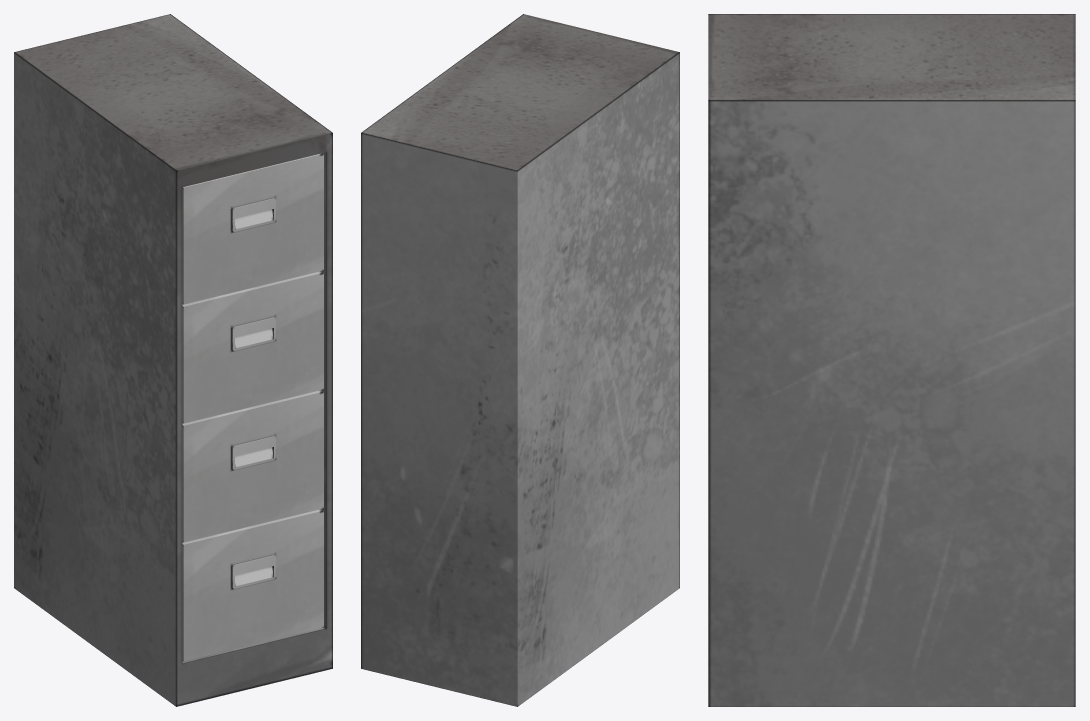
The model's file is FileCabinet_Asset.fbx.
3 views of the same model, side by side, from view 1: azimuth 30°, elevation 25°; view 2: azimuth 150°, elevation 25°; view 3: azimuth 270°, elevation 25° (orthographic). The views are drawn at different scales.
Visible parts, largest first — view 1: FileCabinet, FileCabinetDrawer4, FileCabinetDrawer2, FileCabinetDrawer3, FileCabinetDrawer1; view 2: FileCabinet; view 3: FileCabinet.
Part boxes in pixels (left/top/right/bottom): FileCabinet: left=14, top=14, right=332, bottom=706; FileCabinetDrawer4: left=182, top=509, right=323, bottom=661; FileCabinetDrawer2: left=182, top=271, right=323, bottom=423; FileCabinetDrawer3: left=182, top=390, right=323, bottom=542; FileCabinetDrawer1: left=182, top=153, right=323, bottom=304; FileCabinet: left=361, top=14, right=679, bottom=706; FileCabinet: left=708, top=14, right=1075, bottom=706.
Size of the model in its own units: 34.39 by 61.77 by 113.
